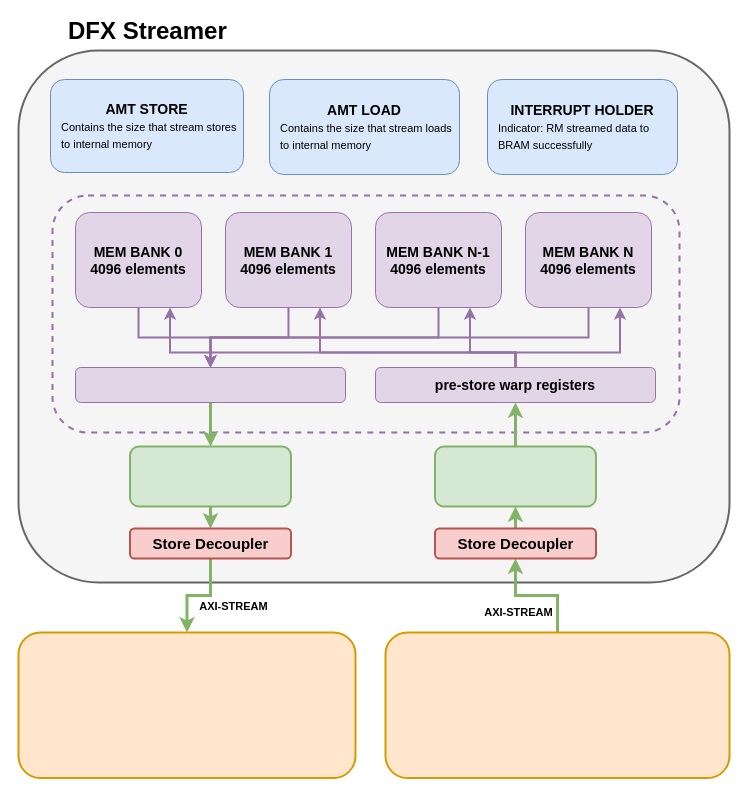
This 747x796 diagram has some shape labels left out. Here are the shapes that lost their labels. From the top down, the centre of each, then its label:
At (x=210, y=384): "pre-load warp registers".
At (x=210, y=476): "Stream Transceiver".
At (x=515, y=476): "Stream Receiver".
At (x=186, y=704): "DFX Module (Reconfigurable Region A)".
At (x=557, y=704): "DFX Module (Reconfigurable Region B)".
